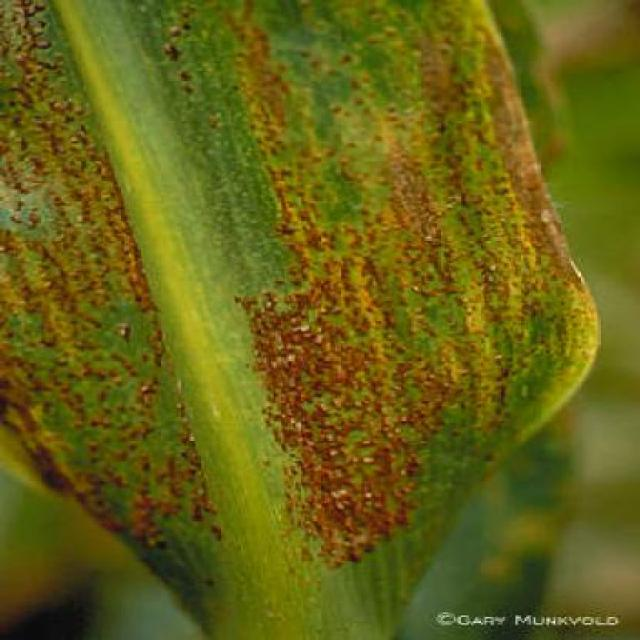Corn_Rust: (0, 0, 612, 577)
